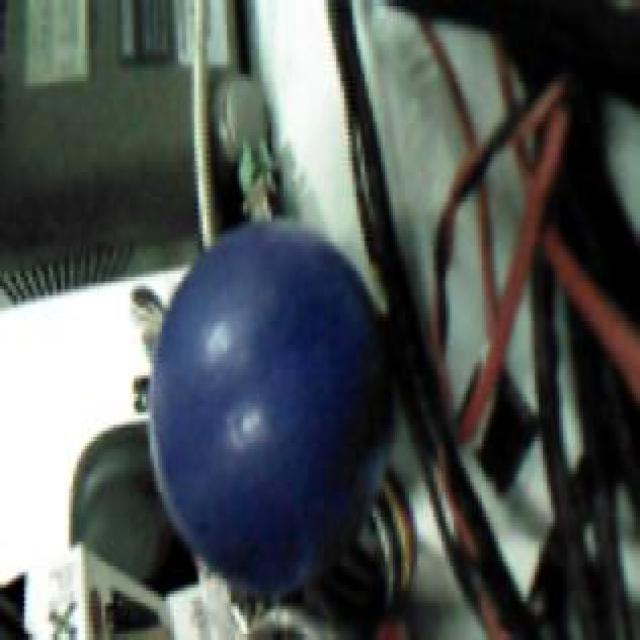BallPurple: (148, 221, 400, 593)
